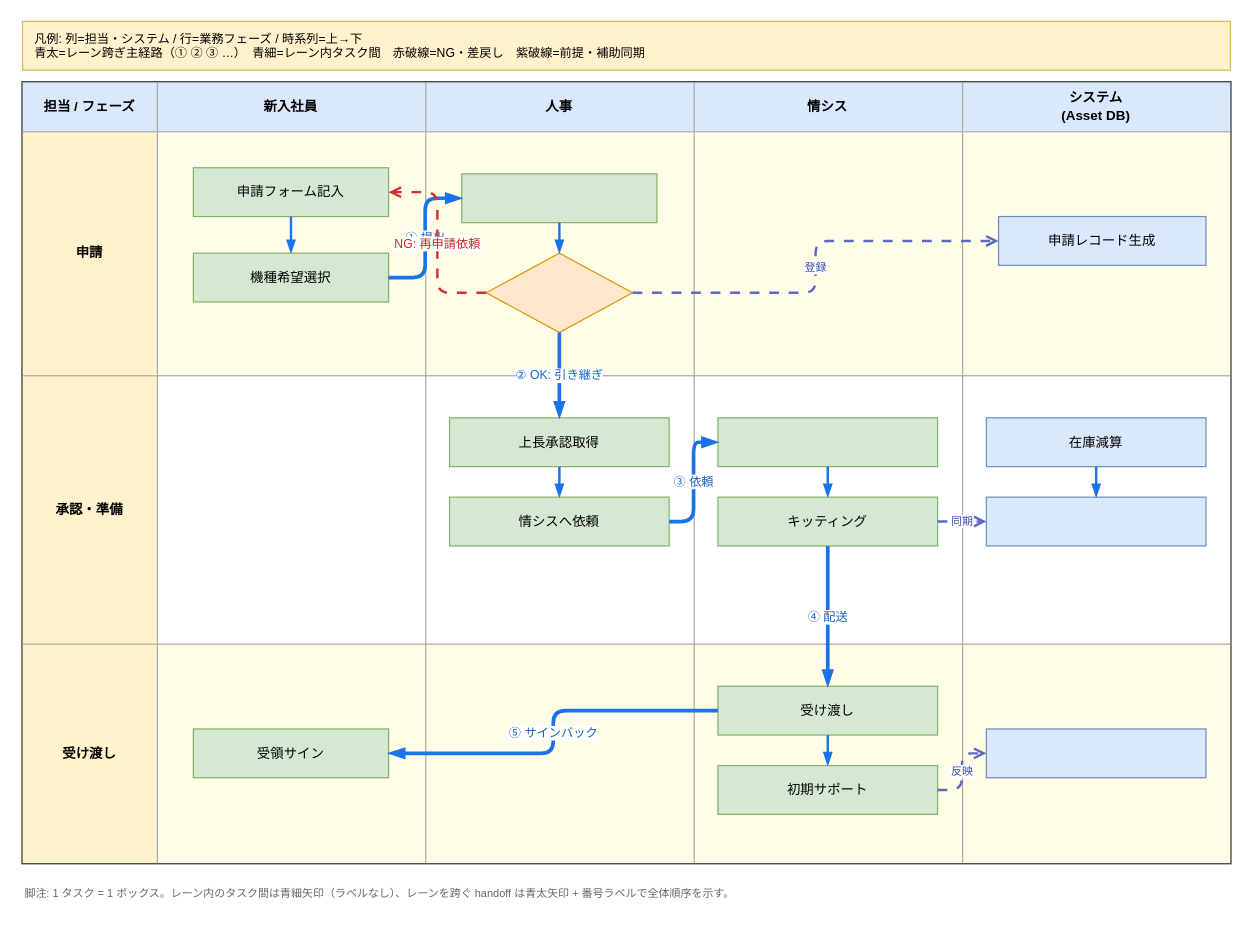
Some shapes in this 1252 by 933 pixel diagram are drawn without their labels. The shapes that lost their labels are listed below. From the top down, each one's centre as x and y in pixels, then its label:
(559,198): 内容確認
(559,292): 承認可否
(827,442): 在庫確認
(1095,521): 貸与レコード生成
(1095,753): ステータス更新（貸与中）
